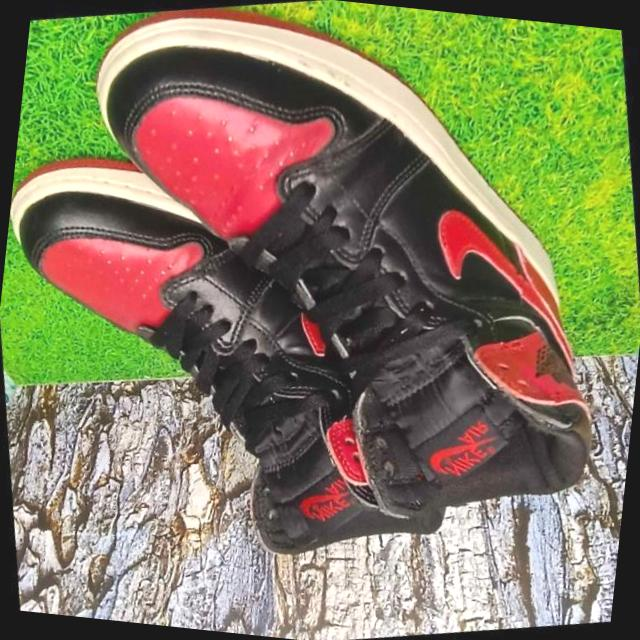nike_fake_jordan: (35, 0, 640, 585), (0, 91, 489, 615)
